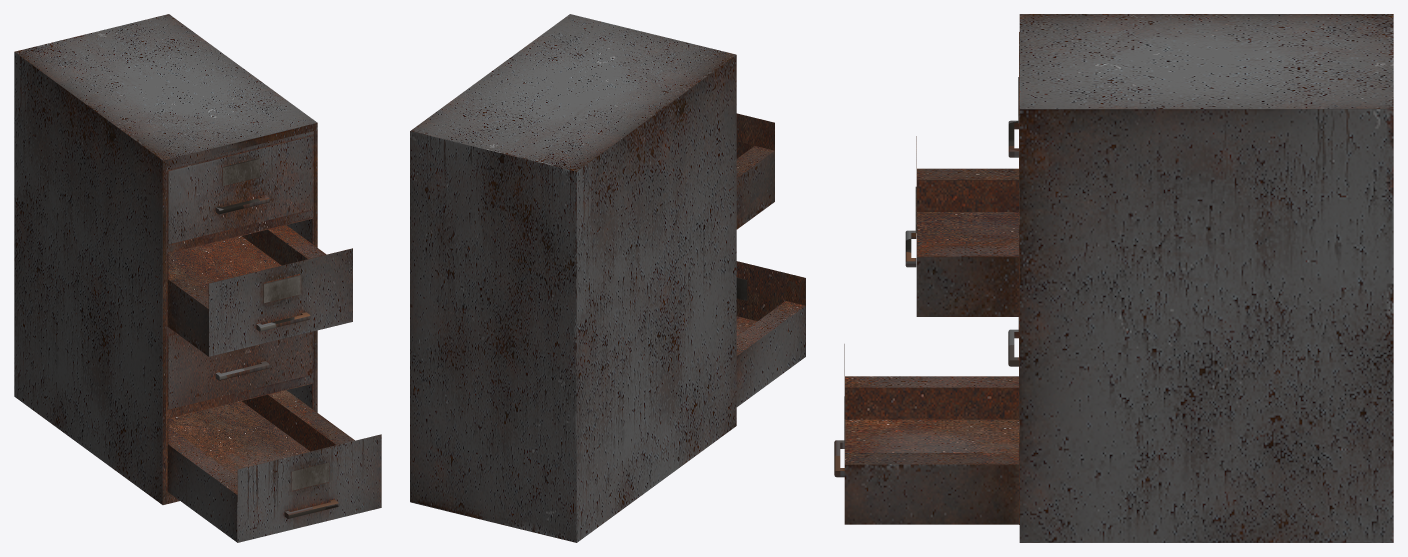
File: szafka_inna2.glb
The picture shows the model from 3 angles, left to right: view 1: azimuth 30°, elevation 25°; view 2: azimuth 150°, elevation 25°; view 3: azimuth 270°, elevation 25°; orthographic projection. The views are drawn at different scales.
Visible parts, largest first — view 1: Cube.140; view 2: Cube.140; view 3: Cube.140.
Boxes of the visible parts, x1,y1,x2,y2 form: Cube.140: [14, 14, 381, 542]; Cube.140: [410, 14, 805, 542]; Cube.140: [834, 14, 1393, 542].
Size of the model in its own units: 0.5431 by 1.16 by 1.35.
1 material, 1 textured.
